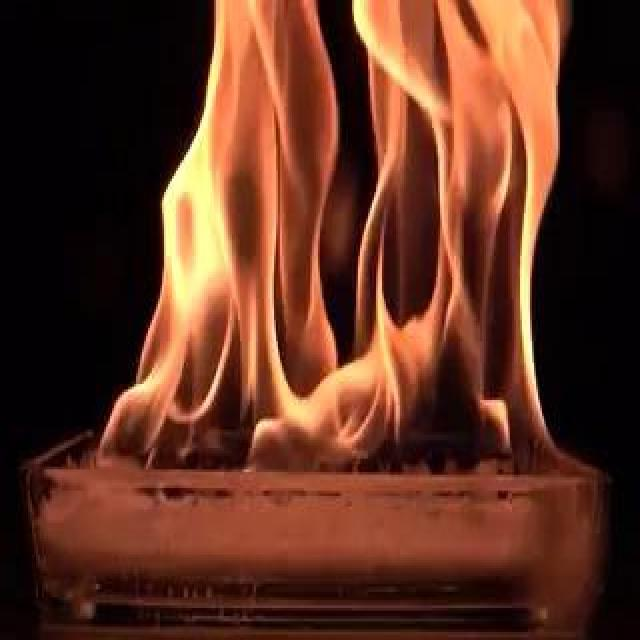Fire: (92, 2, 574, 466)
